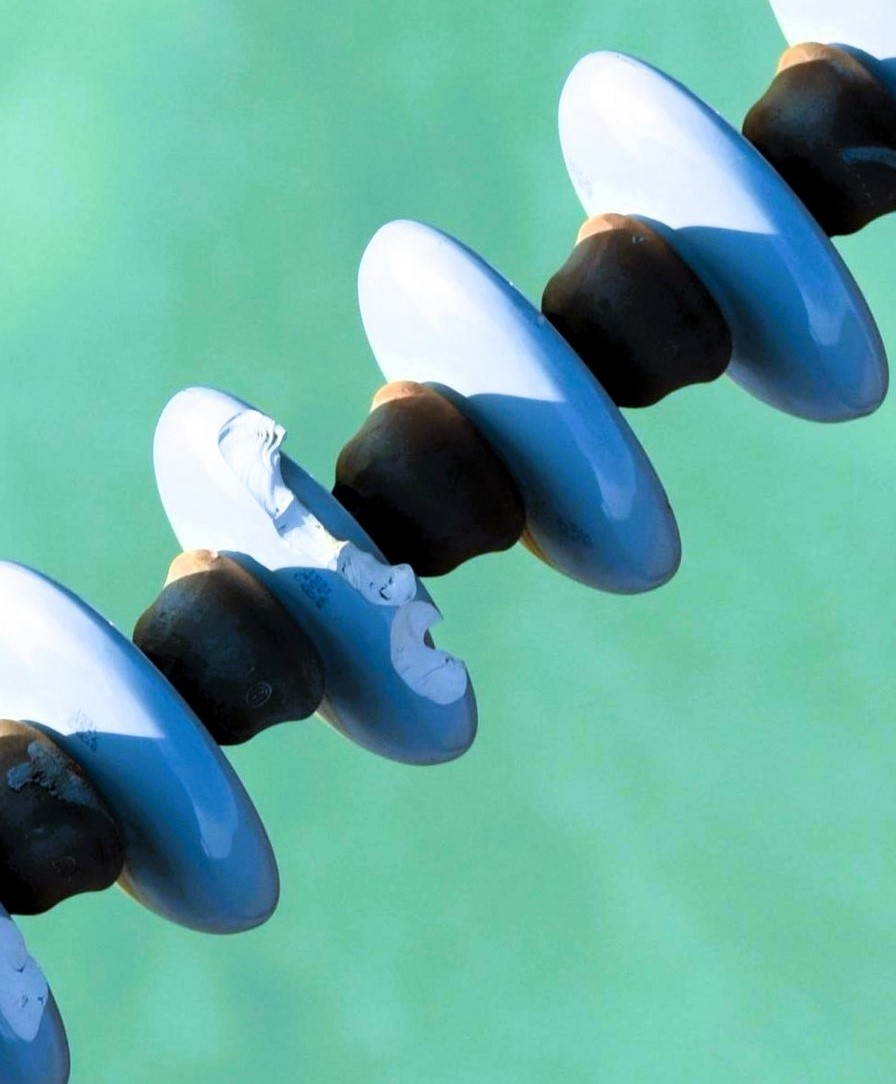insulator breakage: (128, 370, 515, 769)
